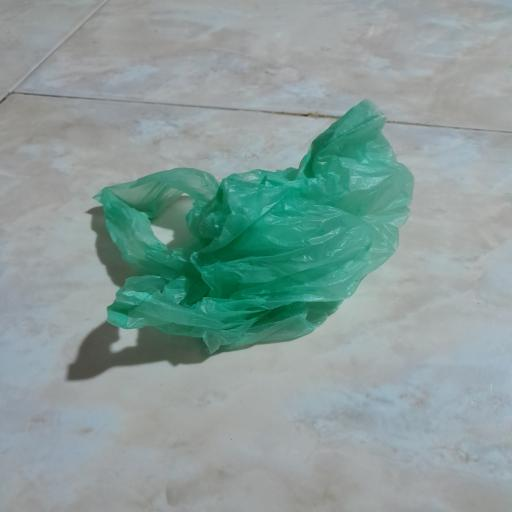waste: (47, 90, 437, 376)
